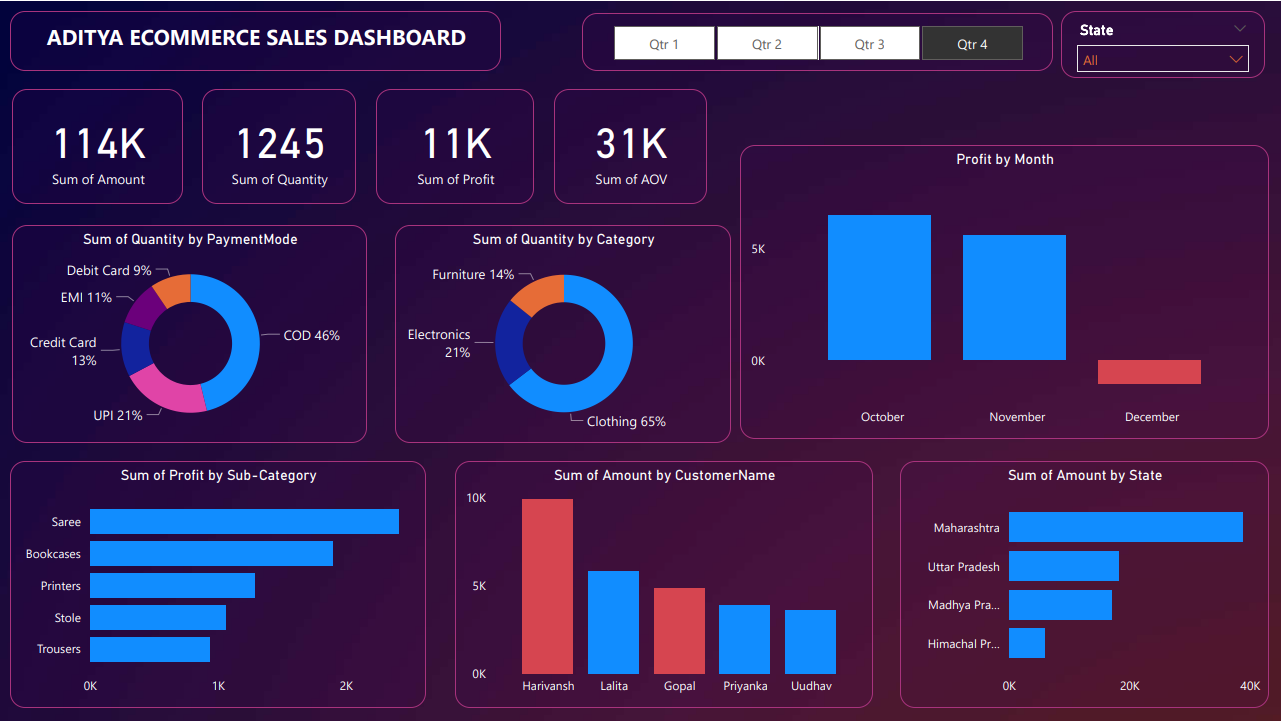

This screenshot's page, from the dashboard's own definition file:
{"tool":"powerbi","page":{"name":"Page 1","canvas":[1280,720],"ordinal":0},"visuals":[{"type":"textbox","box":[9.8,9.8,491.2,60.3],"z":0},{"type":"columnChart","title":"Profit by Month","fields":{"Category":["Orders.Order Date.Variation.Date Hierarchy.Month"],"Y":["Details.Profit"]},"box":[739.5,143.6,529.4,294.4],"z":1000},{"type":"barChart","fields":{"Y":["Details.Profit"],"Category":["Details.Sub-Category"]},"box":[9.8,460.2,415.9,246.5],"z":2000},{"type":"donutChart","fields":{"Category":["Details.Category"],"Y":["Details.Quantity"]},"box":[394.6,224.3,336.1,218.1],"z":3000},{"type":"donutChart","fields":{"Category":["Details.PaymentMode"],"Y":["Details.Quantity"]},"box":[12.4,224.3,354.7,218.1],"z":4000},{"type":"card","fields":{"Values":["Details.Amount"]},"box":[12.4,87.8,170.2,115.3],"z":5000},{"type":"card","fields":{"Values":["Details.Quantity"]},"box":[202.2,87.8,153.4,115.3],"z":6000},{"type":"card","fields":{"Values":["Details.Profit"]},"box":[376,87.8,157.8,115.3],"z":7000},{"type":"card","fields":{"Values":["Details.AOV"]},"box":[554.2,87.8,152.5,115.3],"z":8000},{"type":"barChart","fields":{"Category":["Orders.State"],"Y":["Details.Amount"]},"box":[900,460.2,368.9,246.5],"z":9000},{"type":"columnChart","fields":{"Category":["Orders.CustomerName"],"Y":["Details.Amount"]},"box":[454.9,460.2,418.5,246.5],"z":10000},{"type":"slicer","fields":{"Values":["Orders.Order Date.Variation.Date Hierarchy.Quarter"]},"box":[581.7,11.5,470.8,58.5],"z":11000},{"type":"slicer","fields":{"Values":["Orders.State"]},"box":[1061.4,9.8,204,67.4],"z":12000}]}

Visuals, with their boxes in screenshot pixels (x1, y1, x2, y2), scaled from the page's 1280x720 canvas onto the 1282x722 screenshot:
textbox: <bbox>10, 10, 502, 70</bbox>
"Profit by Month" columnChart: <bbox>741, 144, 1271, 439</bbox>
barChart - Details.Profit x Details.Sub-Category: <bbox>10, 461, 426, 709</bbox>
donutChart - Details.Category x Details.Quantity: <bbox>395, 225, 732, 444</bbox>
donutChart - Details.PaymentMode x Details.Quantity: <bbox>12, 225, 368, 444</bbox>
card - Details.Amount: <bbox>12, 88, 183, 204</bbox>
card - Details.Quantity: <bbox>203, 88, 356, 204</bbox>
card - Details.Profit: <bbox>377, 88, 535, 204</bbox>
card - Details.AOV: <bbox>555, 88, 708, 204</bbox>
barChart - Orders.State x Details.Amount: <bbox>901, 461, 1271, 709</bbox>
columnChart - Orders.CustomerName x Details.Amount: <bbox>456, 461, 875, 709</bbox>
slicer - Orders.Order Date.Variation.Date Hierarchy.Quarter: <bbox>583, 12, 1054, 70</bbox>
slicer - Orders.State: <bbox>1063, 10, 1267, 77</bbox>
